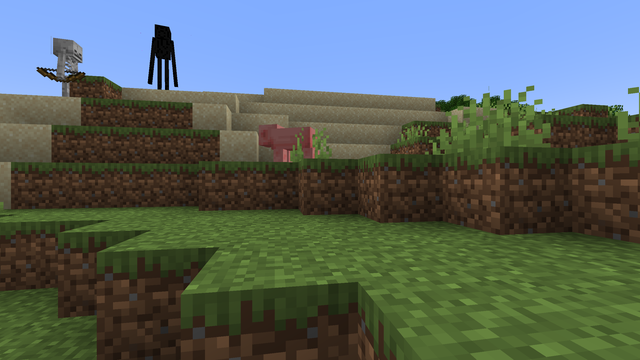cochons: (276, 124, 314, 156)
endermens: (151, 21, 173, 82)
squelettes: (49, 37, 85, 93)
